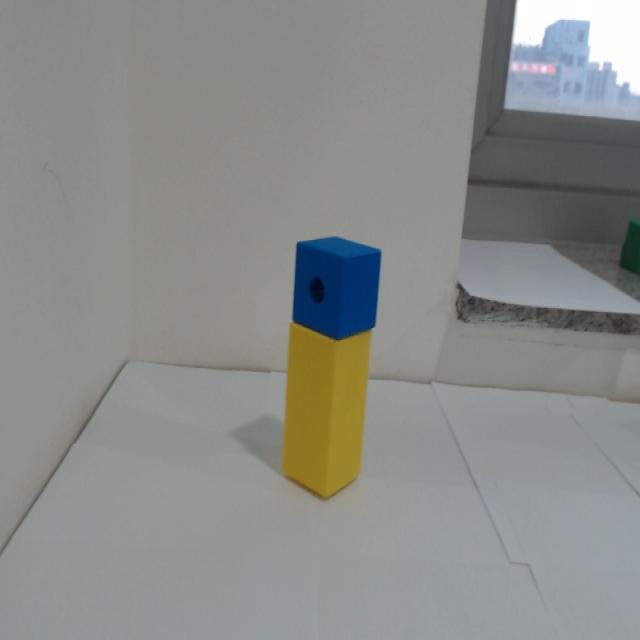cube: (290, 230, 385, 344)
